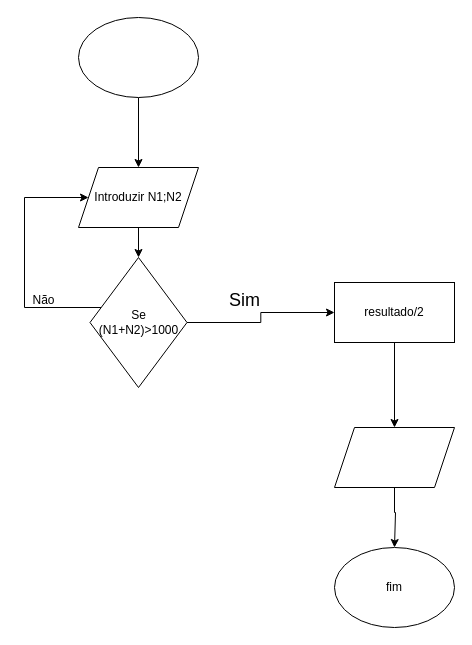
This 472x645 diagram has some shape labels left out. The shapes that lost their labels are listed below. From the top down, each one's centre as x and y in pixels, then its label:
At point (138, 57): "inicio".
At point (394, 457): "indicar média 1".
